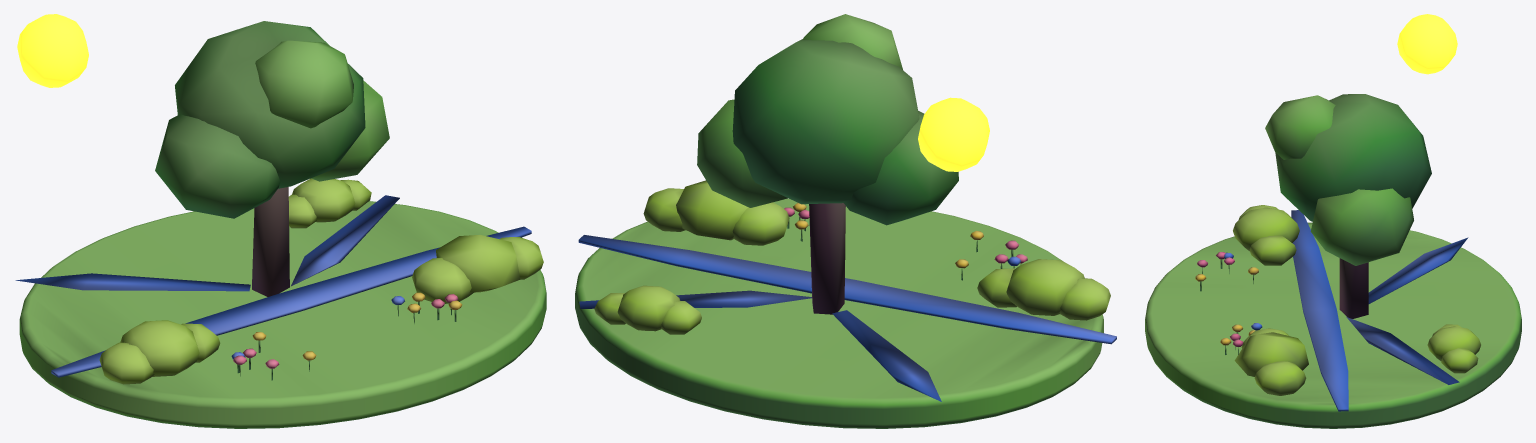
Rendered from garden.glb.
3 renders of one model, left to right at view 1: azimuth 30°, elevation 25°; view 2: azimuth 150°, elevation 25°; view 3: azimuth 270°, elevation 25°, orthographic. The views are drawn at different scales.
Parts seen in each view (by area): view 1: garden; view 2: garden; view 3: garden.
Part boxes in pixels (bbox=[...]): garden: bbox=[15, 14, 546, 428]; garden: bbox=[575, 14, 1116, 428]; garden: bbox=[1145, 14, 1521, 428].
Bounding box in the file's own units: 6.77 × 4 × 5.41.
